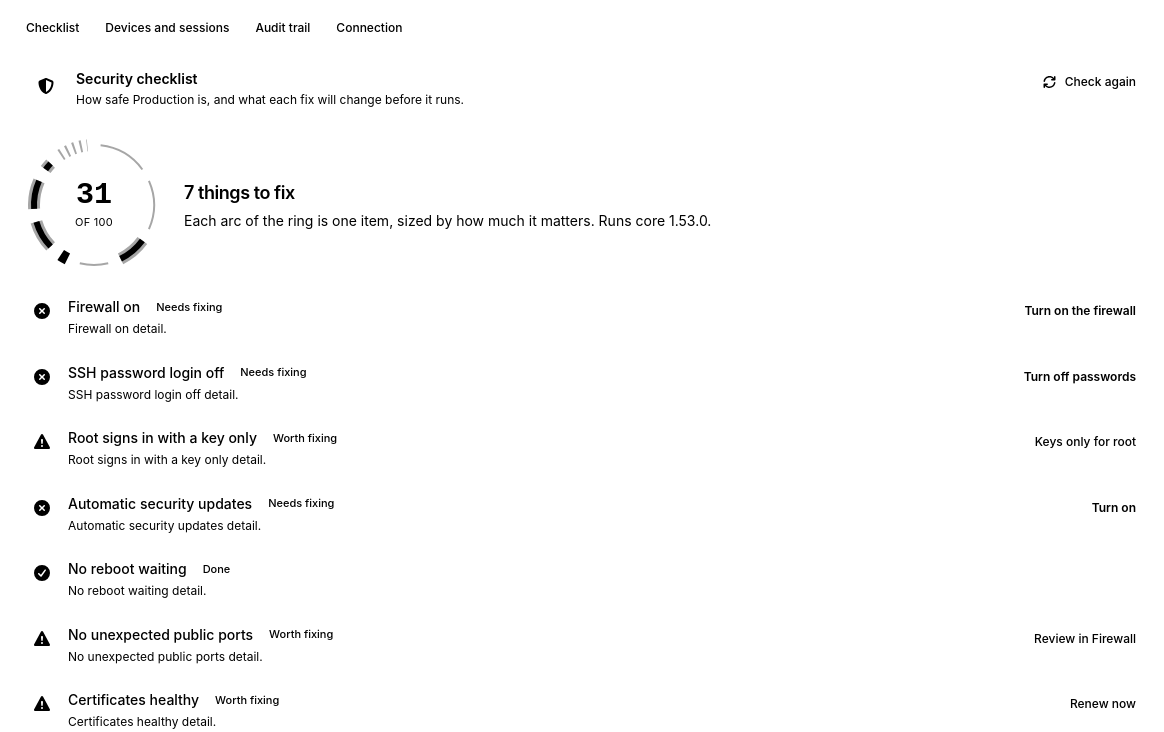
SecurityPanel › gives an Admin the checklist, devices of everyone and the audit trail, but no users or backups
The image size is (1164, 732).
Click the tab "Devices and sessions" at [167, 28], box [93,14,241,42]
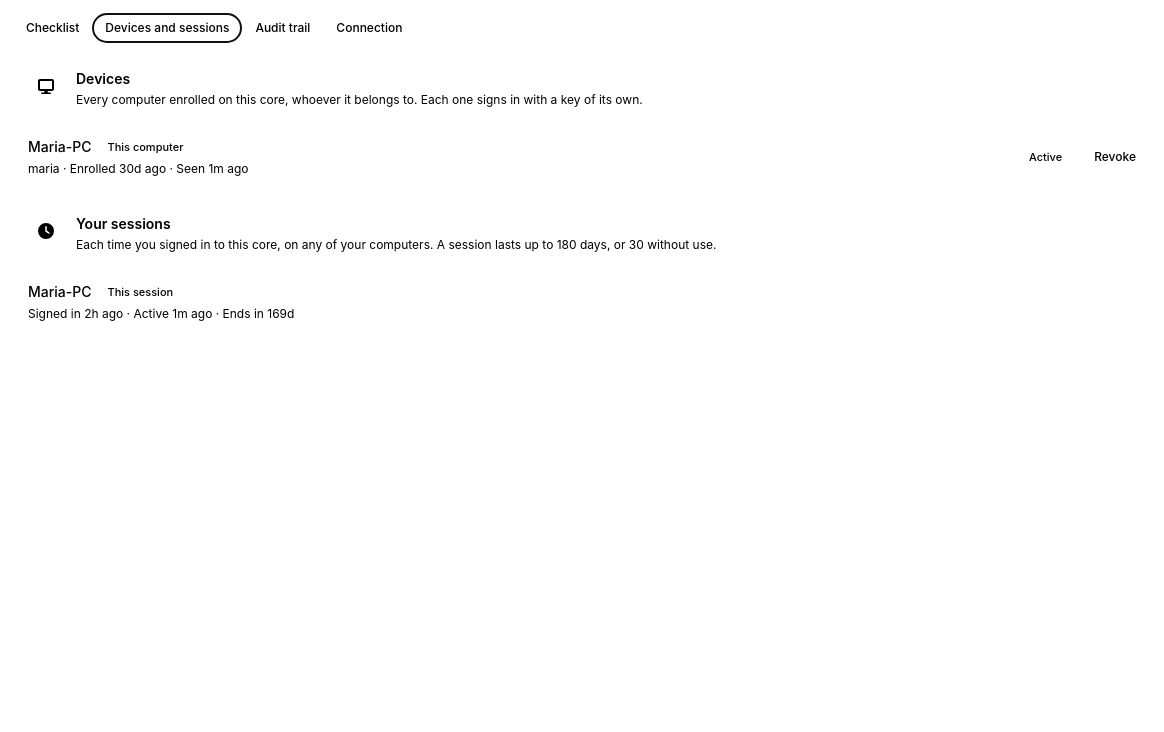
Result: the text "Every computer enrolled on this core" is shown at [76,92,417,106]
Result: the list item "Maria-PC" is shown at [28,138,1148,176]
